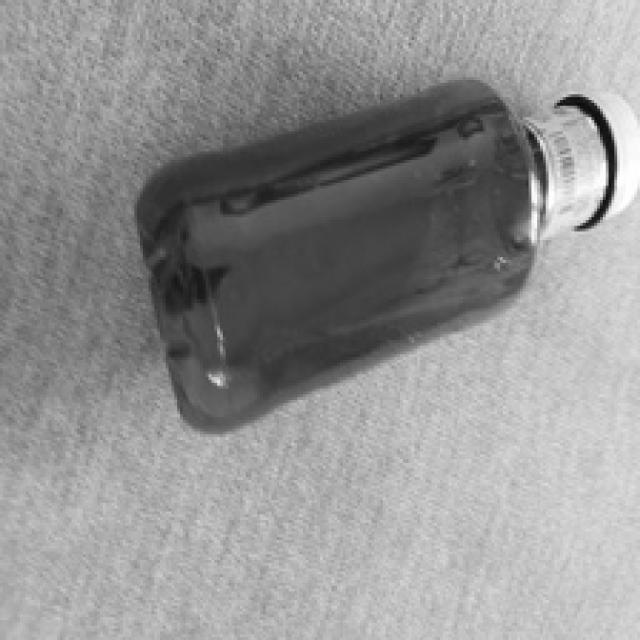good: (118, 52, 639, 460)
